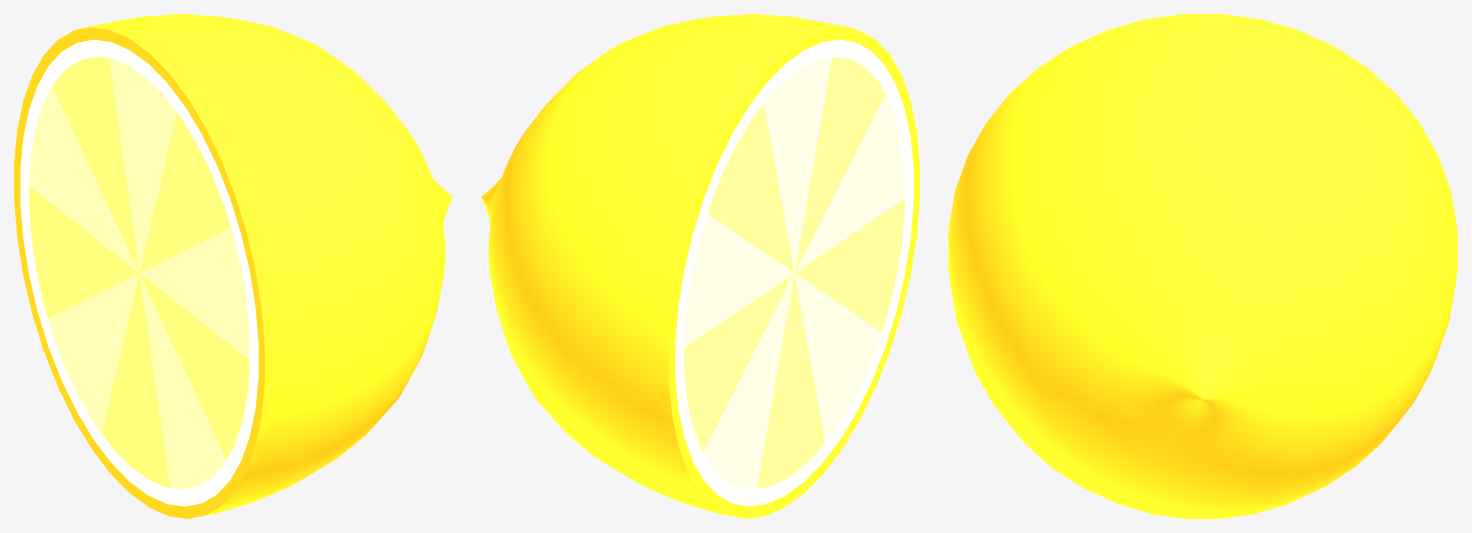
3 renders of one model, left to right at view 1: azimuth 30°, elevation 25°; view 2: azimuth 150°, elevation 25°; view 3: azimuth 270°, elevation 25°, orthographic.
Parts seen in each view (by area): view 1: Lemon-right; view 2: Lemon-right; view 3: Lemon-right.
Part boxes in pixels (x1,y1,x2,y2): Lemon-right: (14,14,452,518); Lemon-right: (481,14,919,518); Lemon-right: (948,14,1457,518).
Size of the model in its own units: 0.0278 by 0.0387 by 0.0387.
